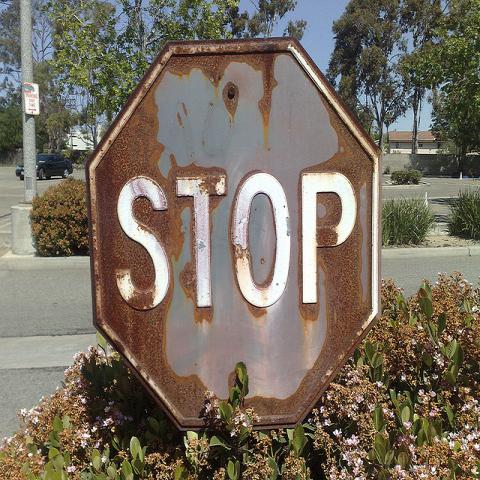car: (15, 154, 72, 180)
